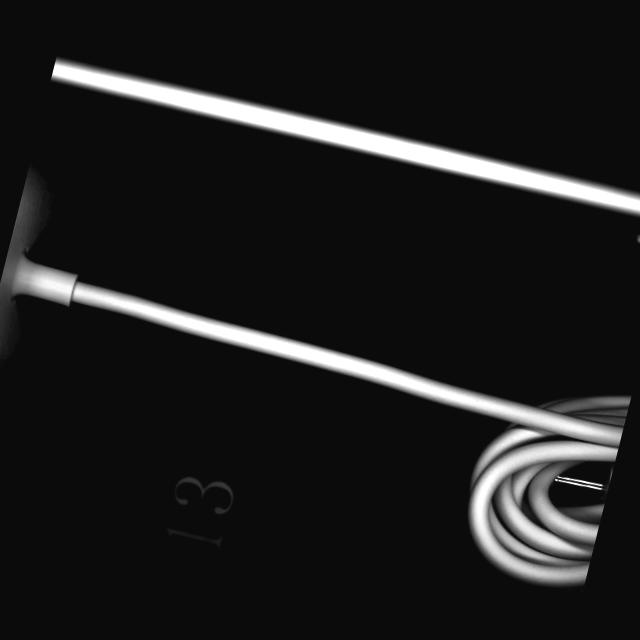Cable: (0, 141, 640, 602)
